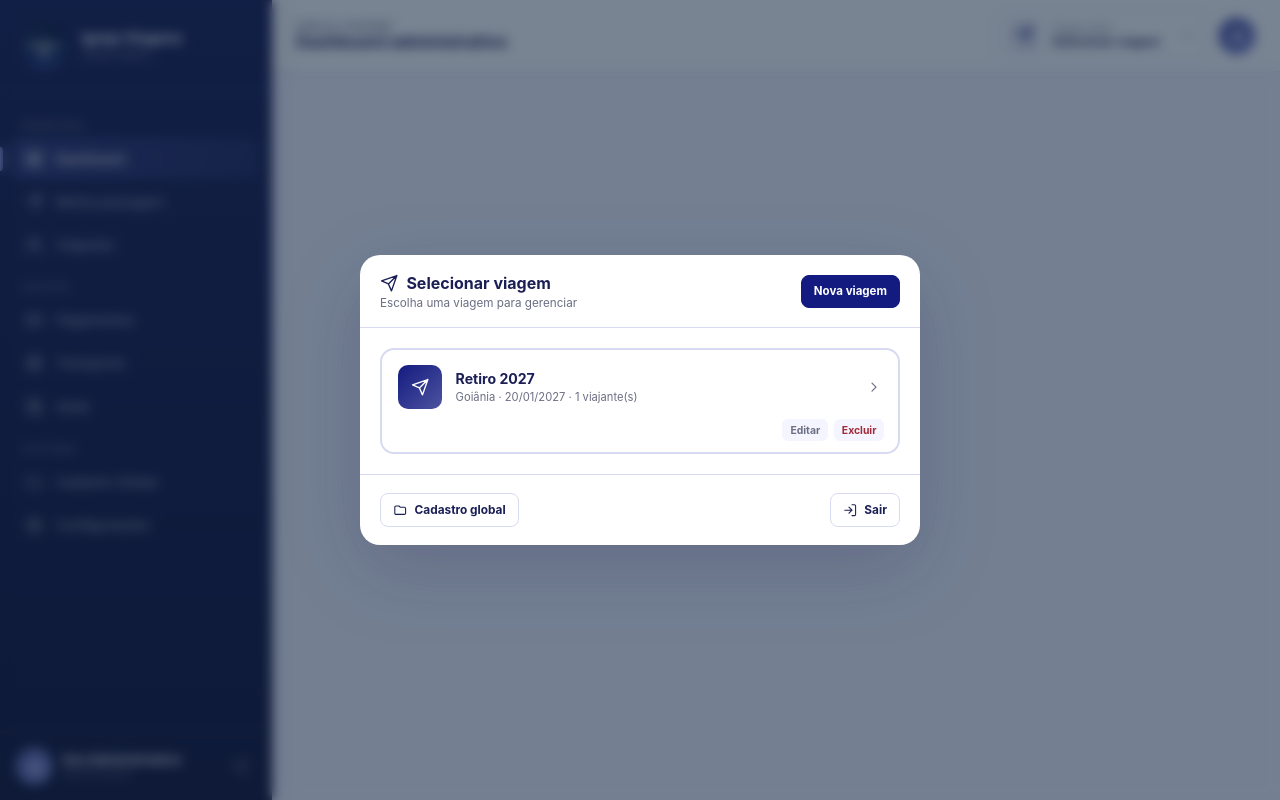
rotas e layout protegido › seleciona uma viagem e atualiza o contexto do layout
The width and height of the screenshot is (1280, 800).
Expected: the dialog is shown, top-left (360, 255), bottom-right (920, 544)
Step 1. Click the button "Retiro 2027 Goiânia · 20/01/2027 · 1 viajante(s)" → (640, 387), box top-left (386, 354), bottom-right (894, 419)
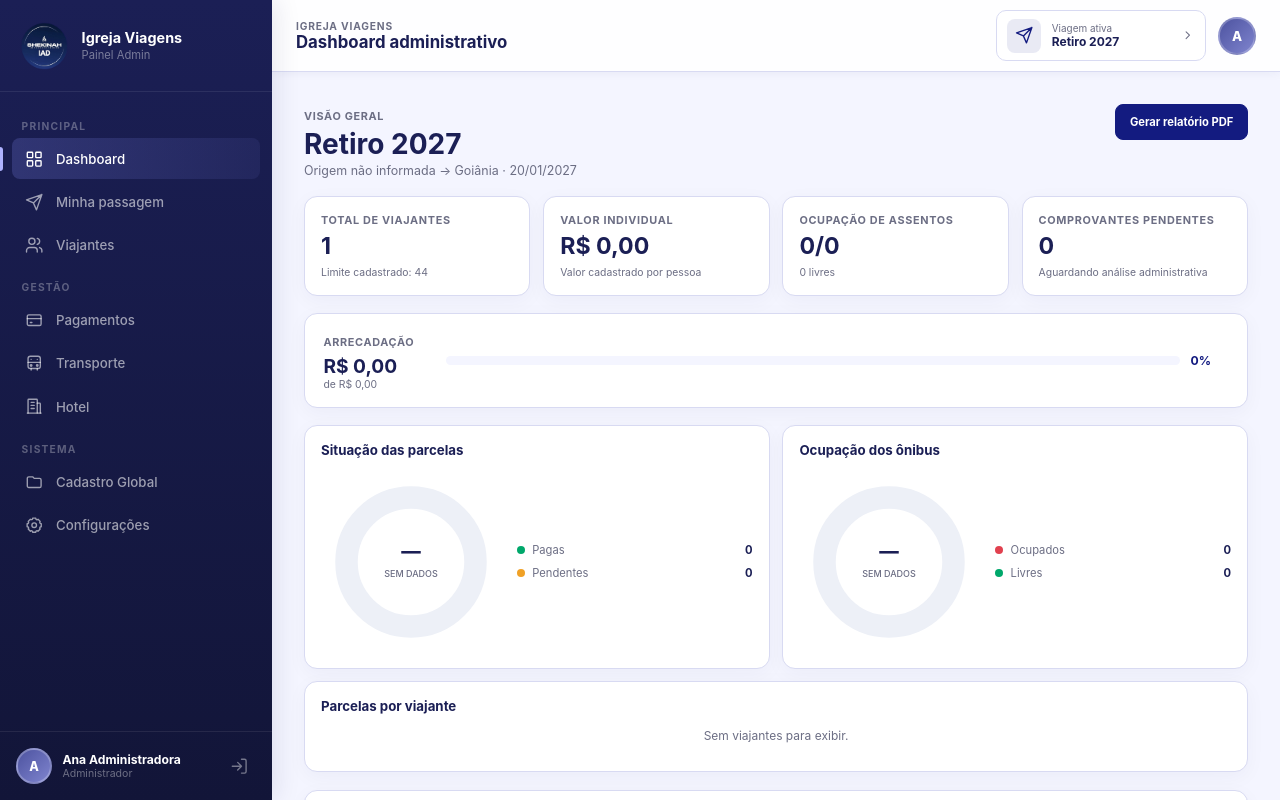
Now the dialog is gone
Now the heading "Retiro 2027" is shown, box top-left (304, 126), bottom-right (462, 160)
